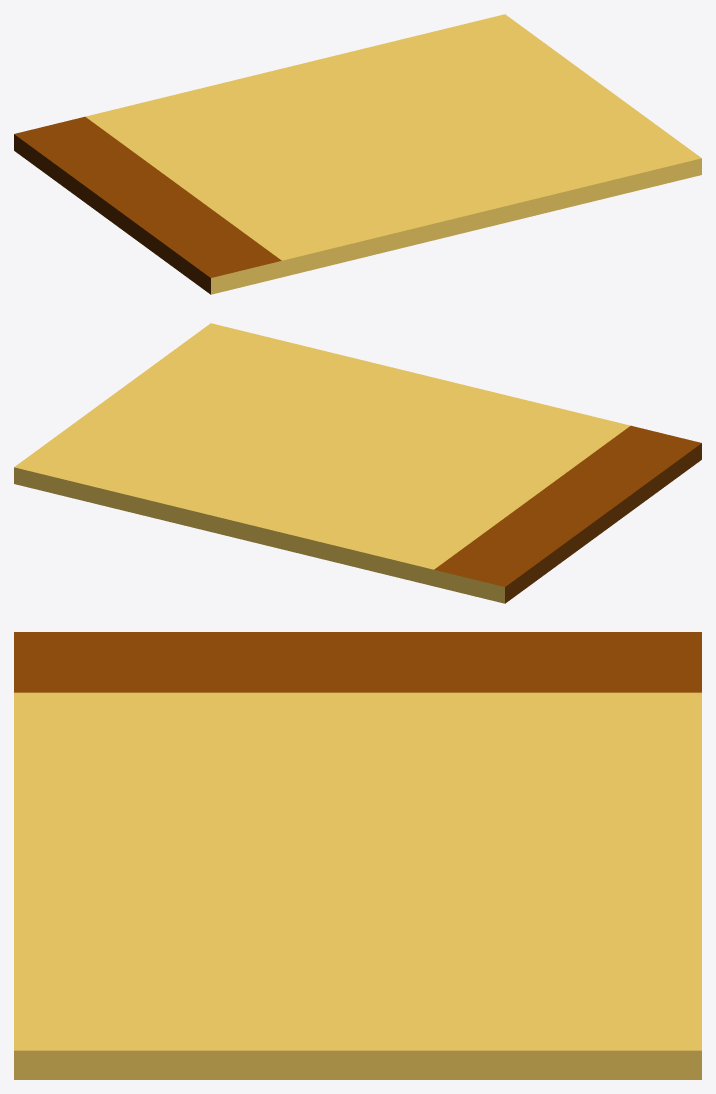
Rendered from Notepad.fbx.
3 renders of one model, top to bottom at view 1: azimuth 30°, elevation 25°; view 2: azimuth 150°, elevation 25°; view 3: azimuth 270°, elevation 25°, orthographic. The views are drawn at different scales.
Parts seen in each view (by area): view 1: Model; view 2: Model; view 3: Model.
Part boxes in pixels (x1,y1,x2,y2): Model: [14, 14, 701, 294]; Model: [14, 323, 701, 603]; Model: [14, 632, 701, 1079].
Bounding box in the file's own units: 65.44 × 2.12 × 45.44.
